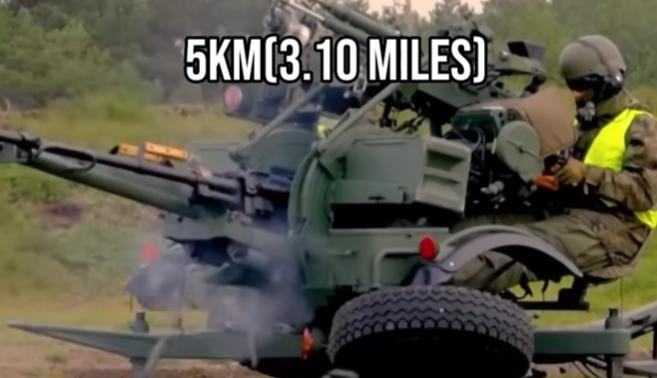MIL_SPG: (0, 0, 630, 376)
